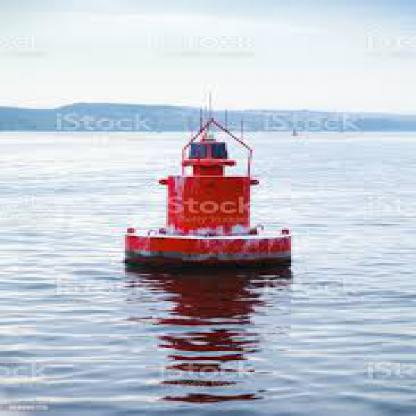buoy: (112, 103, 302, 271)
